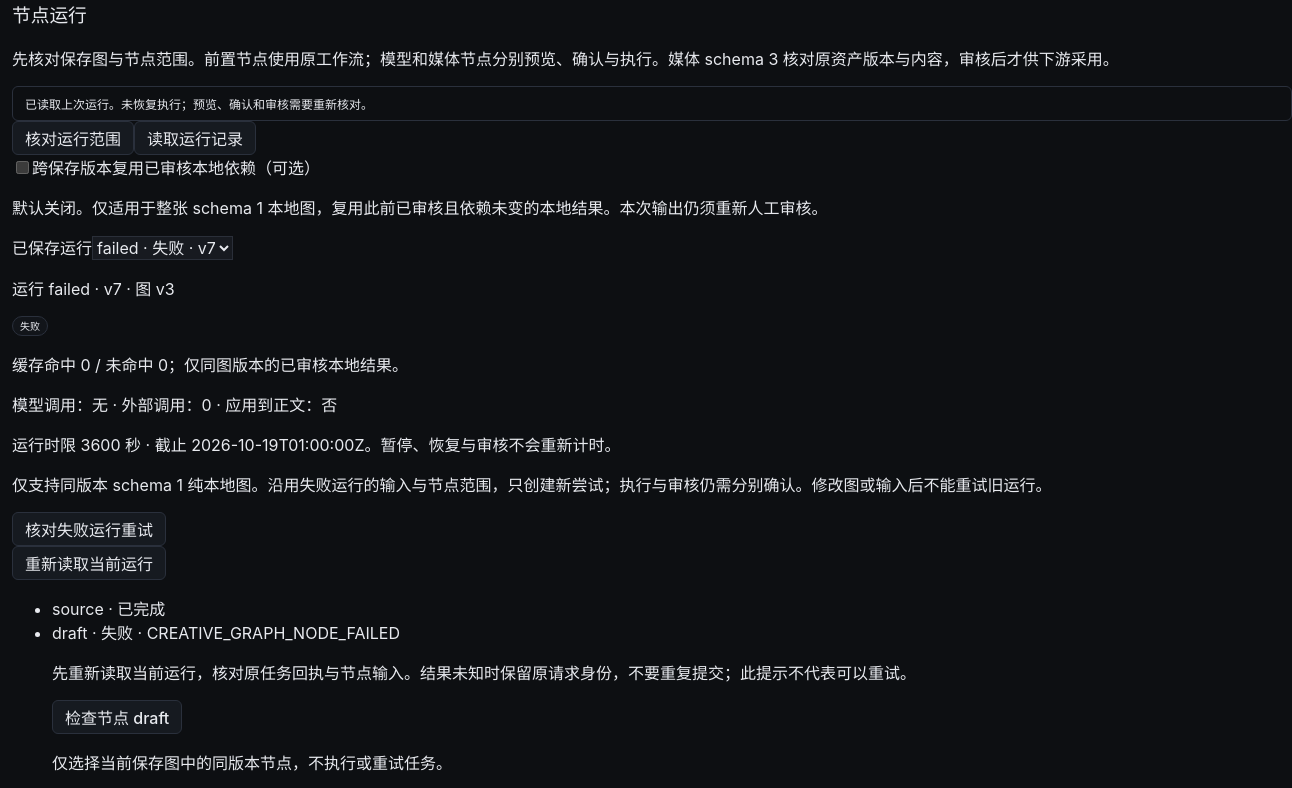
it: failed pure-local retry controls › rejects a preflight that expands the old closure
The image size is (1292, 788).
Click the button "核对失败运行重试" at (89, 529), box [12,512,166,546]
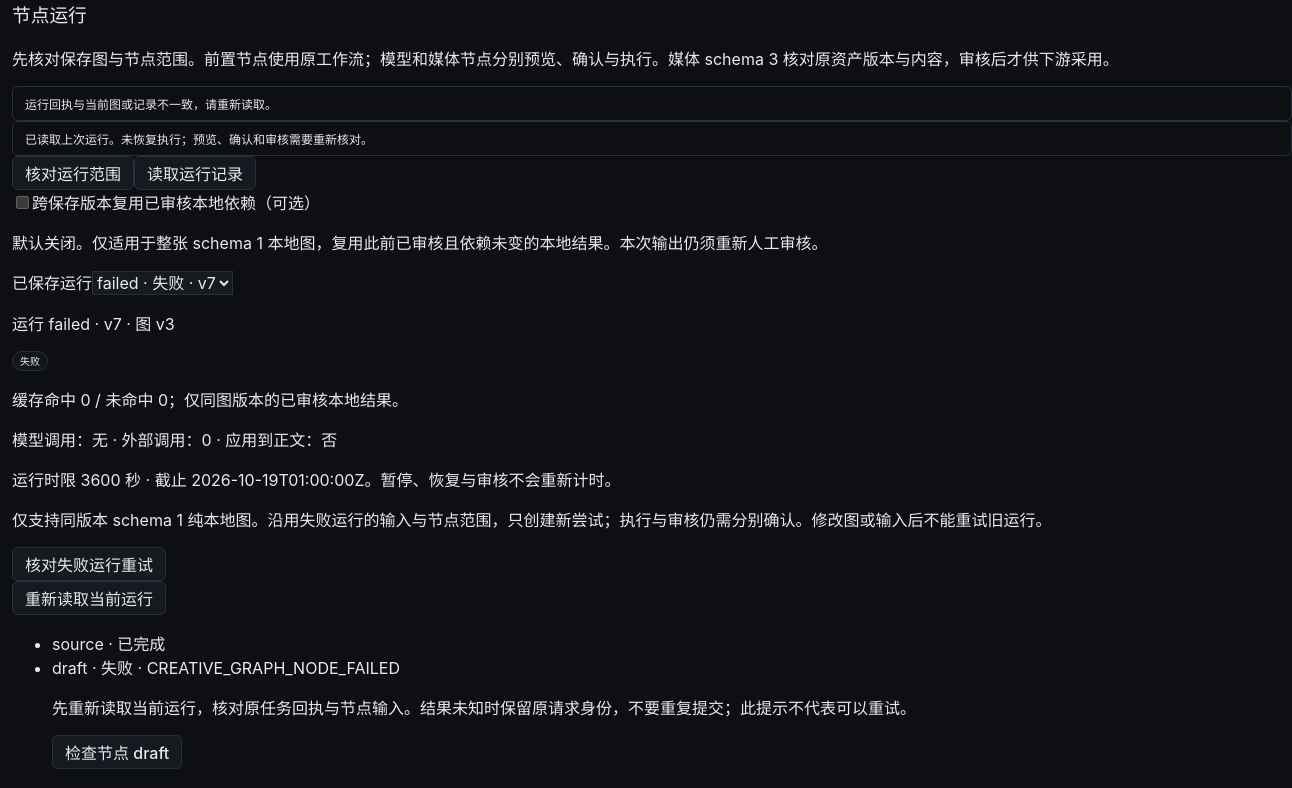
Check: the text "运行回执与当前图或记录不一致，请重新读取。" is shown, box [12,86,1291,121]
